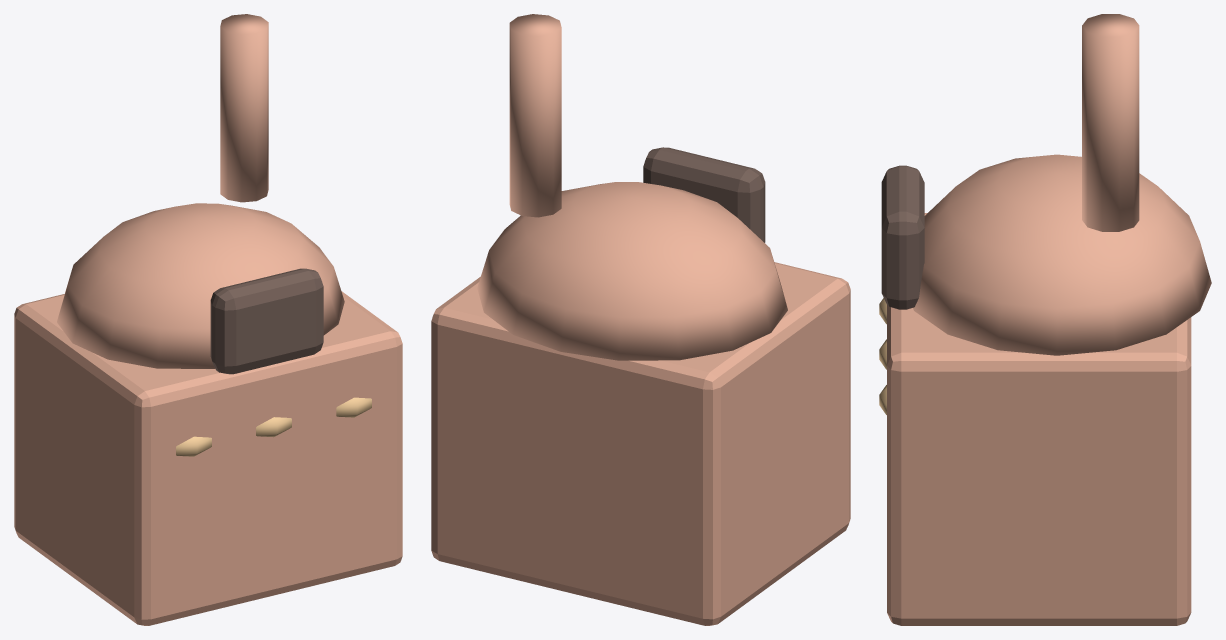
The model's file is forno_lenha.glb.
The picture shows the model from 3 angles, left to right: view 1: azimuth 30°, elevation 25°; view 2: azimuth 150°, elevation 25°; view 3: azimuth 270°, elevation 25°; orthographic projection. The views are drawn at different scales.
Parts seen in each view (by area): view 1: forno_lenha; view 2: forno_lenha; view 3: forno_lenha.
Part boxes in pixels (bbox=[...]): forno_lenha: bbox=[14, 14, 402, 625]; forno_lenha: bbox=[431, 14, 850, 625]; forno_lenha: bbox=[879, 14, 1211, 625].
Size of the model in its own units: 1 by 1.75 by 0.9286.
